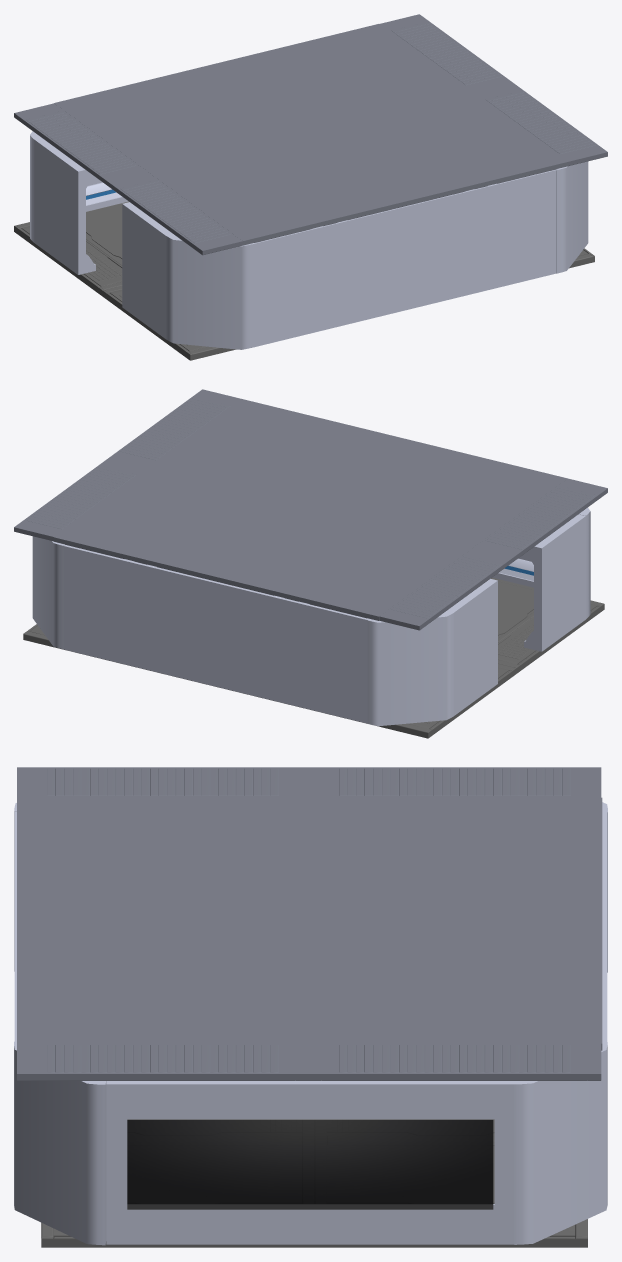
File: office_Room.fbx
3 views of the same model, one above another, from view 1: azimuth 30°, elevation 25°; view 2: azimuth 150°, elevation 25°; view 3: azimuth 270°, elevation 25° (orthographic). The views are drawn at different scales.
Parts seen in each view (by area): view 1: Office_Room:ceiling1, Office_Room:ceiling2, Office_Room:corner4, Office_Room:wall9, Office_Room:wall10, Office_Room:wall8, Office_Room:wall7, Office_Room:wall5, Office_Room:wall6, Office_Room:corner3, Office_Room:floor10, Office_Room:floor6 (+3 smaller); view 2: Office_Room:ceiling2, Office_Room:ceiling1, Office_Room:corner2, Office_Room:wall2, Office_Room:wall3, Office_Room:wall1, Office_Room:wall4, Office_Room:wall6, Office_Room:wall5, Office_Room:corner1, Office_Room:floor5, Office_Room:floor3 (+3 smaller); view 3: Office_Room:ceiling2, Office_Room:ceiling1, Office_Room:Window_frame, Office_Room:Glass, Office_Room:corner1, Office_Room:corner3, Office_Room:floor9, Office_Room:floor4.
Part boxes in pixels (x1,y1,x2,y2): Office_Room:ceiling1: (108,83,607,255); Office_Room:ceiling2: (14,14,513,185); Office_Room:corner4: (166,234,252,349); Office_Room:wall9: (404,188,480,310); Office_Room:wall10: (480,169,556,291); Office_Room:wall8: (327,206,404,329); Office_Room:wall7: (252,225,327,347); Office_Room:wall5: (34,137,95,274); Office_Room:wall6: (122,202,172,339); Office_Room:corner3: (556,161,588,273); Office_Room:floor10: (14,222,122,295); Office_Room:floor6: (86,201,128,265); Office_Room:ceiling2: (14,458,513,630); Office_Room:ceiling1: (108,389,607,560); Office_Room:corner2: (367,611,453,726); Office_Room:wall2: (139,563,217,686); Office_Room:wall3: (215,582,293,704); Office_Room:wall1: (63,545,140,667); Office_Room:wall4: (292,600,369,723); Office_Room:wall6: (524,514,585,651); Office_Room:wall5: (447,578,497,715); Office_Room:corner1: (32,536,64,649); Office_Room:floor5: (498,600,604,673); Office_Room:floor3: (491,577,533,641); Office_Room:ceiling2: (308,767,602,1080); Office_Room:ceiling1: (17,767,310,1080); Office_Room:Window_frame: (106,1081,515,1244); Office_Room:Glass: (127,1119,493,1209); Office_Room:corner1: (514,1042,607,1244); Office_Room:corner3: (14,1041,106,1245); Office_Room:floor9: (314,1219,587,1247); Office_Room:floor4: (41,1223,314,1247).
Size of the model in its own units: 47.32 by 12.45 by 37.63.
